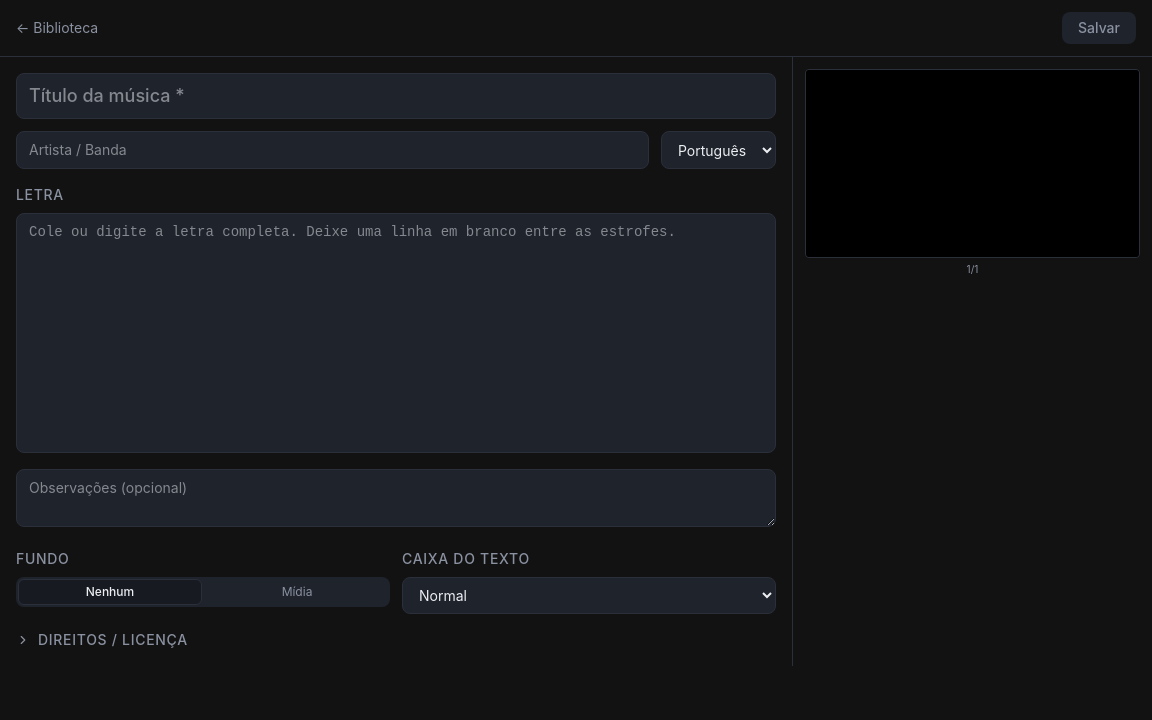
Test: SongEditor › Save button enables when title and lyrics are filled
Type "Novo Título" into the field with placeholder "Título da música *".
click(396, 96); type("Novo Título")  # box [16,73,776,119]
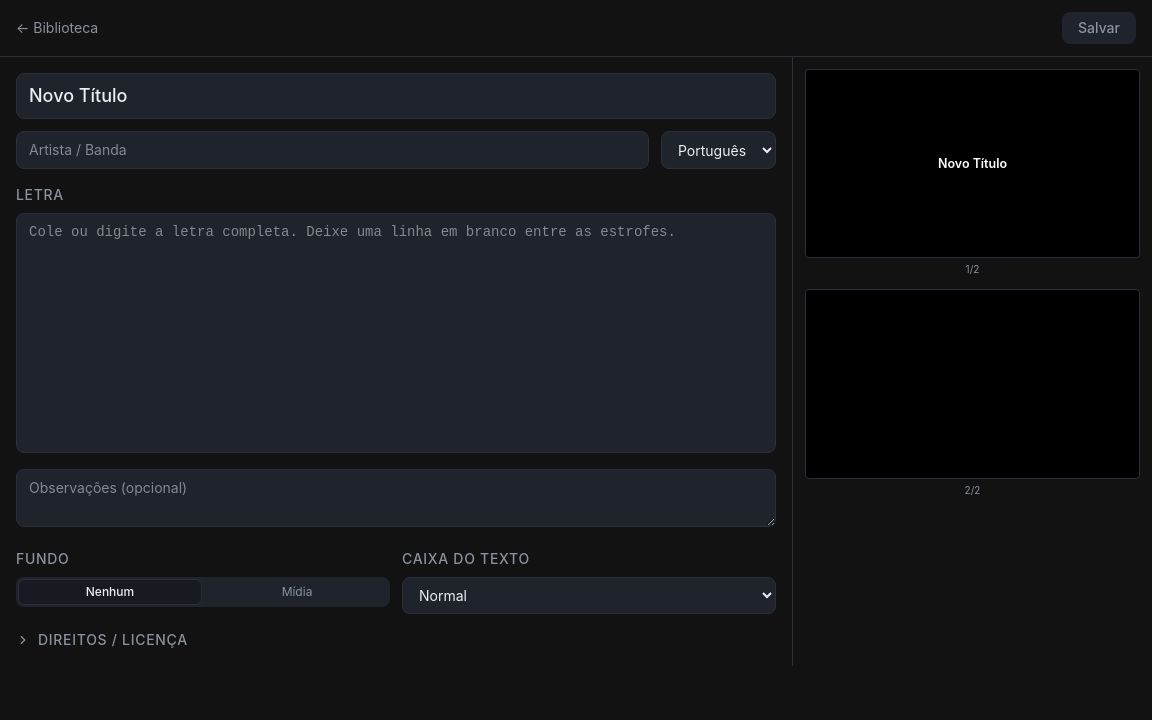
Replace the text in the text box with placeholder "Cole ou digite a letra completa. Deixe uma linha em branco entre as estrofes." with "Letra aqui" at {"x": 396, "y": 333}, box [16,213,776,453]
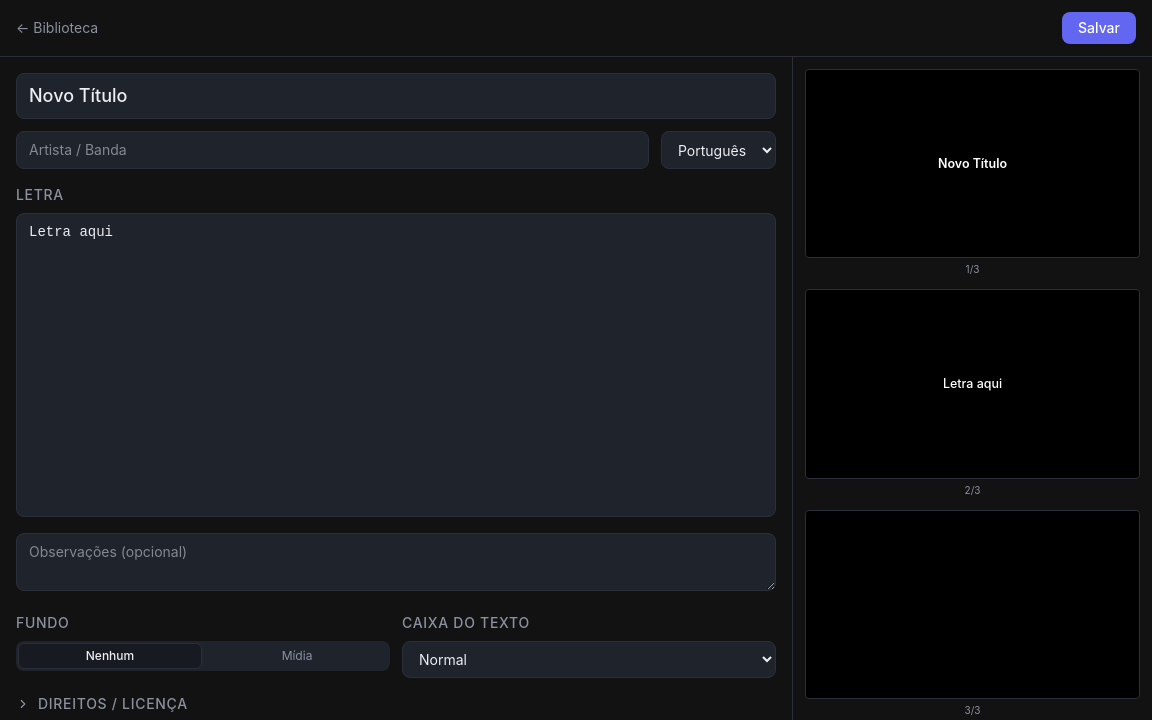
Check: the button "Salvar" is enabled, box [1062,12,1136,44]
